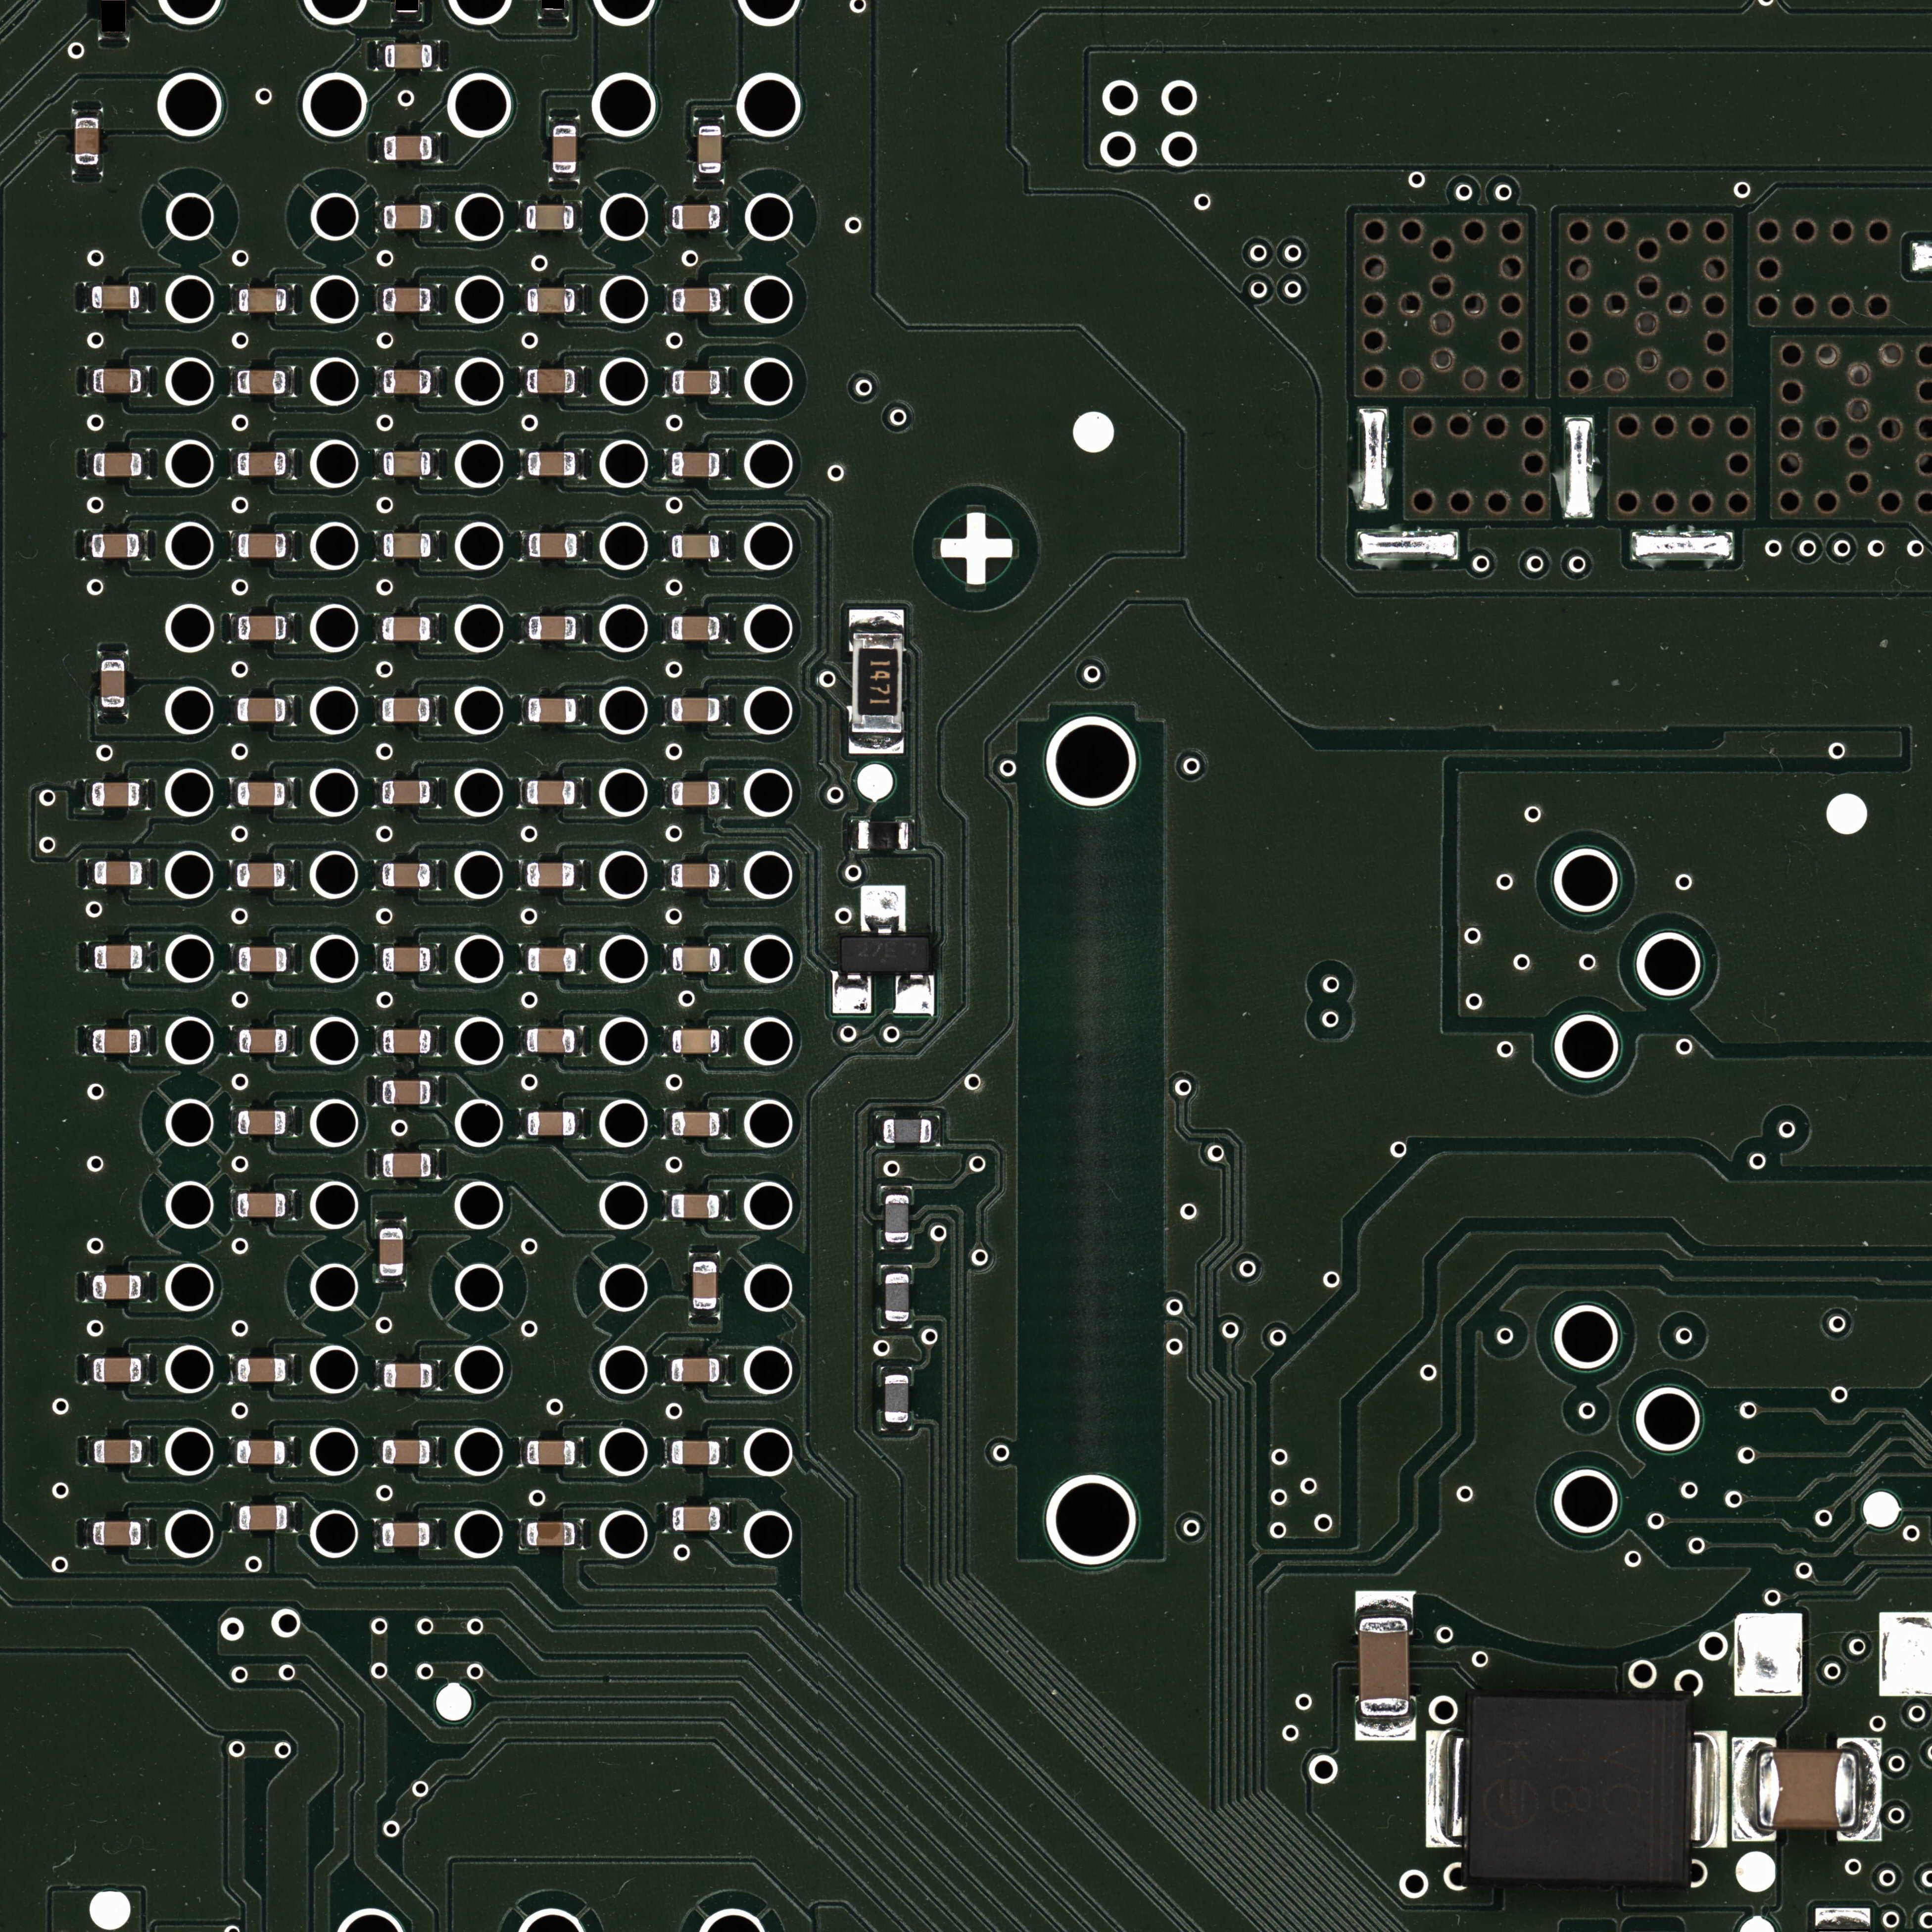Package: (1468, 1697, 1688, 1882), (1759, 1752, 1856, 1828), (1359, 1617, 1410, 1716), (851, 633, 902, 732), (840, 936, 931, 973), (858, 821, 909, 849), (672, 451, 720, 478), (237, 1192, 287, 1217), (671, 863, 720, 888), (92, 368, 142, 393), (671, 697, 720, 722), (92, 1522, 142, 1546), (671, 1194, 720, 1219), (237, 370, 287, 395), (671, 1440, 720, 1465), (527, 699, 577, 724), (671, 616, 720, 640), (237, 616, 287, 640), (237, 451, 287, 476), (237, 533, 287, 557), (382, 1154, 432, 1178), (672, 205, 720, 230), (672, 288, 720, 313), (672, 1111, 720, 1136), (384, 205, 432, 230), (525, 205, 573, 230), (94, 945, 142, 970), (885, 1274, 909, 1322), (527, 288, 575, 313), (697, 126, 722, 173), (527, 780, 575, 805), (382, 780, 430, 805), (527, 1111, 575, 1136), (379, 1228, 403, 1276), (885, 1375, 909, 1422), (529, 533, 577, 557), (672, 1506, 720, 1530), (527, 368, 575, 393), (384, 370, 432, 395), (527, 1028, 575, 1053), (384, 136, 432, 161), (382, 697, 430, 722), (239, 288, 287, 313), (237, 1440, 285, 1465), (94, 1357, 142, 1382), (672, 947, 720, 971), (552, 126, 577, 173), (239, 1506, 287, 1530), (384, 44, 432, 69), (382, 1440, 430, 1465), (527, 1440, 575, 1465), (237, 782, 285, 807), (672, 534, 720, 559), (92, 782, 140, 807), (529, 616, 577, 640), (382, 947, 430, 971), (239, 947, 287, 971), (692, 1261, 717, 1309), (527, 451, 575, 476), (237, 863, 285, 888), (92, 285, 140, 310), (885, 1194, 909, 1242), (672, 370, 720, 395), (74, 117, 99, 165), (527, 1522, 575, 1546), (237, 1111, 287, 1134), (92, 1030, 142, 1053), (382, 1030, 432, 1053), (92, 1276, 142, 1299), (671, 782, 720, 805), (671, 1359, 720, 1382), (527, 948, 577, 971), (237, 1359, 287, 1382), (384, 451, 430, 476), (384, 533, 430, 557), (883, 1120, 932, 1143), (382, 288, 430, 311), (94, 862, 142, 885), (672, 1030, 720, 1053), (382, 863, 430, 886), (237, 699, 285, 722), (382, 1081, 430, 1104), (92, 534, 140, 557), (101, 660, 124, 708), (94, 1440, 142, 1463), (527, 863, 575, 886), (239, 1030, 287, 1053), (94, 453, 142, 476), (384, 1364, 432, 1387), (382, 1523, 430, 1546), (382, 617, 430, 640)
Solder: (1424, 1730, 1472, 1849), (1684, 1729, 1727, 1847), (1732, 1737, 1757, 1842), (1858, 1737, 1881, 1842), (860, 885, 906, 934), (832, 973, 872, 1014), (895, 975, 934, 1016), (1355, 1591, 1414, 1617), (1355, 1716, 1417, 1741), (849, 609, 904, 632), (849, 734, 904, 754), (97, 34, 129, 44), (285, 778, 295, 809), (285, 860, 295, 890), (879, 1185, 913, 1194), (879, 1366, 913, 1375), (881, 1422, 913, 1431), (375, 1219, 407, 1228), (688, 1309, 720, 1318), (373, 1148, 382, 1180), (688, 1253, 720, 1261), (849, 819, 858, 851), (548, 117, 580, 126), (575, 1437, 584, 1468), (548, 173, 580, 182), (71, 108, 103, 117), (375, 1276, 407, 1284), (575, 1518, 584, 1550), (720, 1108, 729, 1139), (720, 777, 729, 809), (287, 448, 295, 479), (932, 1115, 941, 1146), (140, 281, 149, 313), (287, 1353, 295, 1385), (575, 777, 584, 809), (140, 529, 149, 561), (432, 943, 441, 975), (287, 1189, 295, 1221), (881, 1242, 913, 1251), (287, 612, 295, 644), (287, 943, 295, 975), (140, 778, 149, 810), (720, 448, 729, 479), (142, 1353, 150, 1385), (518, 1108, 527, 1139), (575, 1108, 584, 1139), (720, 283, 729, 315), (720, 612, 729, 644), (720, 943, 729, 975), (720, 1502, 729, 1534), (720, 366, 729, 398), (720, 1437, 729, 1468), (391, 12, 423, 21), (373, 1076, 382, 1106), (375, 41, 384, 71), (97, 651, 127, 660), (432, 133, 441, 163), (430, 1076, 439, 1106), (373, 1437, 382, 1467), (720, 1191, 729, 1221), (518, 1437, 527, 1467), (375, 1361, 384, 1391), (375, 133, 384, 163), (518, 449, 527, 479), (430, 695, 439, 725), (520, 531, 529, 561), (430, 1437, 439, 1467), (83, 283, 92, 313), (228, 614, 237, 644), (373, 1026, 382, 1056), (83, 531, 92, 561), (720, 1355, 729, 1385), (83, 780, 92, 810), (720, 531, 729, 561), (694, 117, 724, 126), (694, 173, 724, 182), (287, 695, 295, 725), (373, 449, 382, 479), (287, 1106, 295, 1136), (228, 778, 237, 809), (577, 614, 586, 644), (662, 1355, 671, 1385), (373, 945, 382, 975), (575, 1026, 584, 1056), (373, 531, 382, 561), (577, 366, 586, 396), (287, 531, 295, 561), (662, 1191, 671, 1221), (373, 614, 382, 644), (430, 778, 439, 809), (518, 778, 527, 809), (285, 1437, 294, 1467), (432, 366, 441, 396), (520, 614, 529, 644), (287, 366, 295, 396), (97, 708, 127, 717), (430, 1520, 439, 1550), (230, 1502, 239, 1532), (430, 860, 439, 890), (228, 1355, 237, 1385), (142, 1272, 150, 1302), (663, 1026, 672, 1056), (663, 368, 672, 398), (577, 695, 586, 725), (228, 695, 237, 725), (432, 1026, 441, 1056), (518, 285, 527, 315), (575, 860, 584, 890), (287, 1026, 295, 1056), (373, 860, 382, 890), (432, 202, 441, 232), (518, 366, 527, 396), (228, 860, 237, 890), (720, 860, 729, 890), (373, 695, 382, 725), (230, 1026, 239, 1056), (373, 778, 382, 809), (575, 285, 584, 315), (142, 366, 150, 396), (373, 1520, 382, 1550), (720, 695, 729, 725), (230, 285, 239, 315), (577, 531, 586, 561), (538, 11, 568, 19), (663, 945, 672, 973), (518, 945, 527, 973), (879, 1322, 913, 1329), (85, 1353, 92, 1385), (432, 1148, 439, 1180), (143, 1435, 150, 1467), (143, 941, 150, 973), (665, 1502, 672, 1534), (909, 819, 916, 851), (575, 200, 582, 232), (85, 1518, 92, 1550), (71, 166, 103, 173), (663, 1108, 671, 1139), (142, 1024, 149, 1056), (142, 1518, 149, 1550), (287, 283, 294, 315), (87, 858, 94, 890), (230, 943, 237, 975), (881, 1265, 911, 1272), (433, 41, 441, 71), (85, 366, 92, 396), (85, 449, 92, 479), (518, 1520, 525, 1550), (663, 1437, 671, 1467), (432, 531, 439, 561), (375, 202, 382, 232), (375, 366, 382, 396), (85, 1272, 92, 1302), (433, 1361, 441, 1391), (663, 449, 671, 479), (663, 778, 671, 809), (663, 531, 671, 561), (432, 614, 439, 644), (663, 614, 671, 644), (577, 943, 584, 973), (663, 695, 671, 725), (665, 202, 672, 232), (432, 449, 439, 479), (230, 531, 237, 561), (520, 695, 527, 725), (375, 285, 382, 315), (230, 449, 237, 479), (228, 1437, 235, 1467), (85, 1026, 92, 1056), (577, 449, 584, 479), (663, 860, 671, 890), (288, 1502, 295, 1532), (143, 858, 150, 888), (665, 285, 672, 315), (432, 285, 439, 315), (518, 1026, 525, 1056), (518, 860, 525, 890), (230, 1106, 237, 1136), (143, 449, 150, 479), (518, 202, 525, 232), (720, 202, 727, 232), (230, 366, 237, 396), (230, 1189, 237, 1219), (720, 1026, 727, 1056), (87, 941, 94, 971), (87, 1437, 94, 1467), (876, 1116, 883, 1145)
